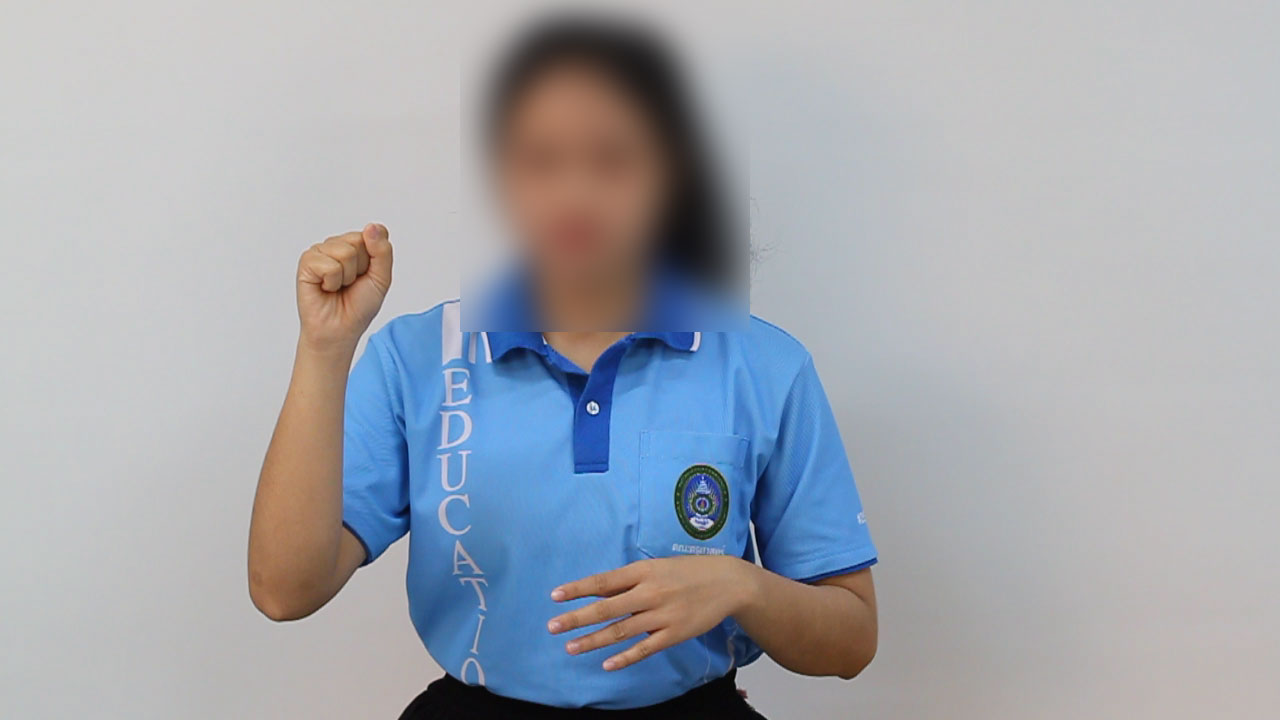sor: (280, 210, 404, 356)
